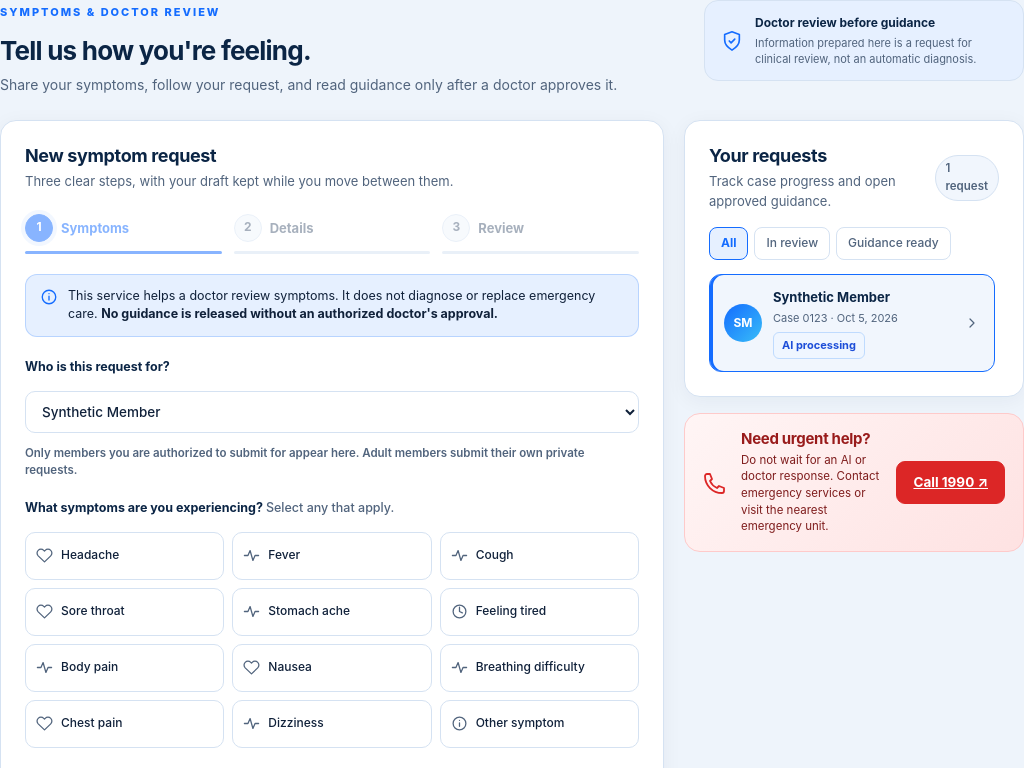
patient request popup › opens on request click, reports receipt without claiming doctor read, and reopens after close
Click the button "SM Synthetic Member Case 0123 · Oct 5, 2026 AI processing" at (852, 323), box [709,274,995,372]
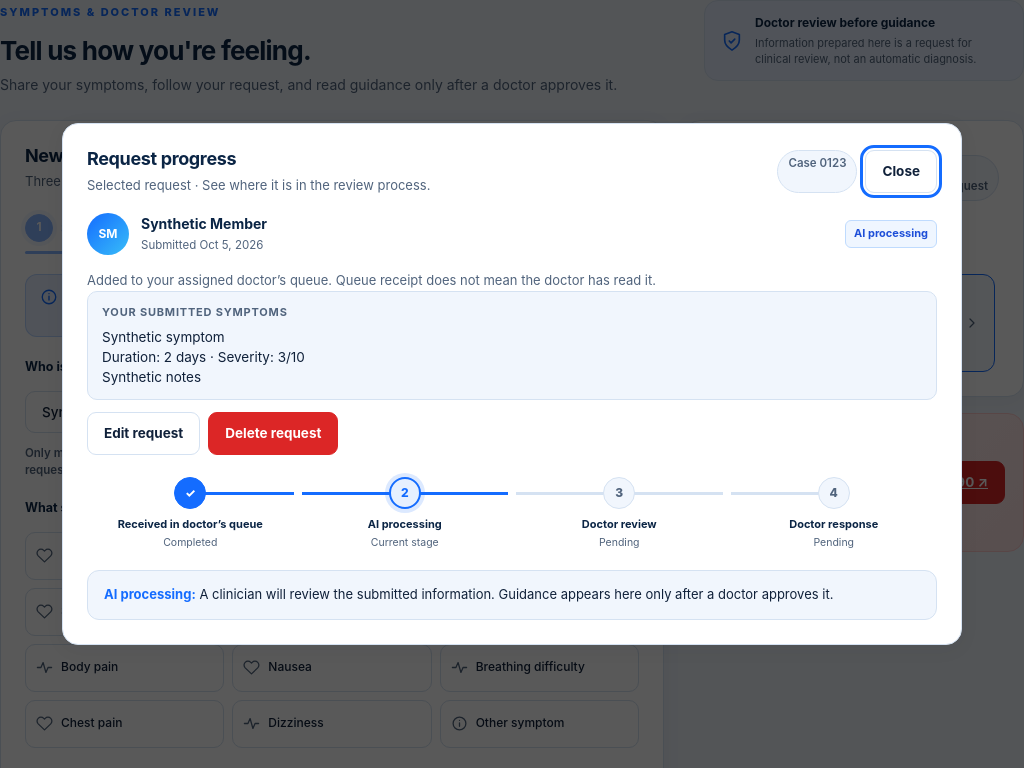
Result: the text "Added to your assigned doctor" is shown at [87,272,332,288]
Click the button "Close" at (901, 172), box [866,150,937,193]
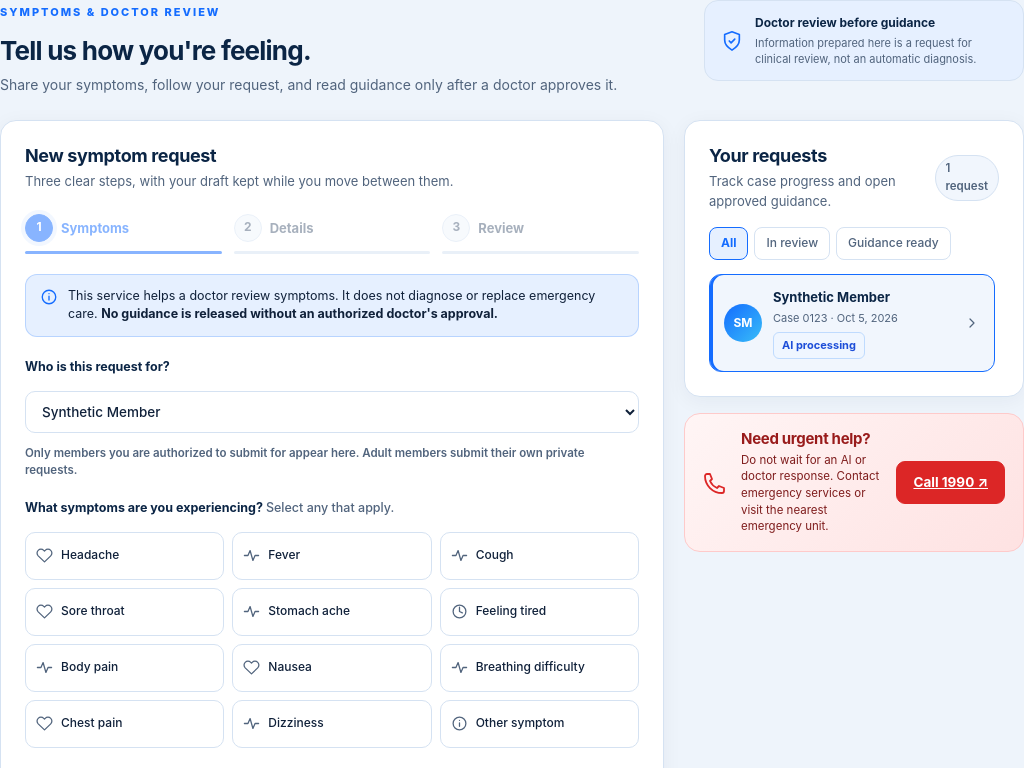
Result: the dialog is gone
Click the button "SM Synthetic Member Case 0123 · Oct 5, 2026 AI processing" at (852, 323), box [709,274,995,372]
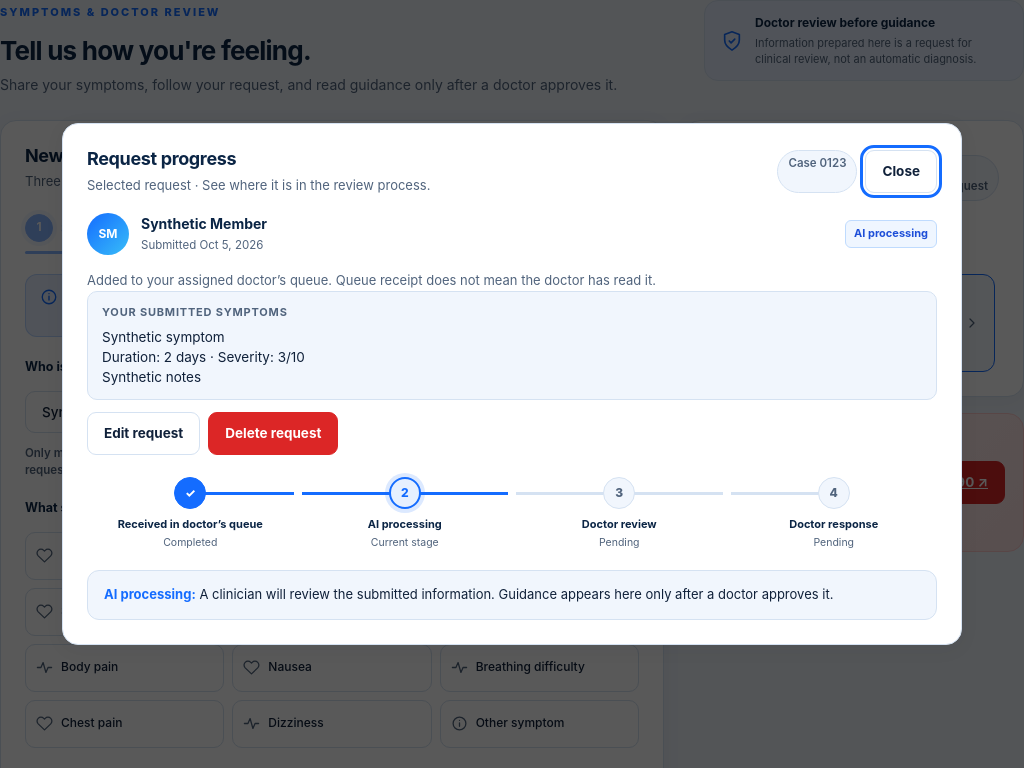
Result: the dialog "Request progress" is shown at [62,123,962,645]
